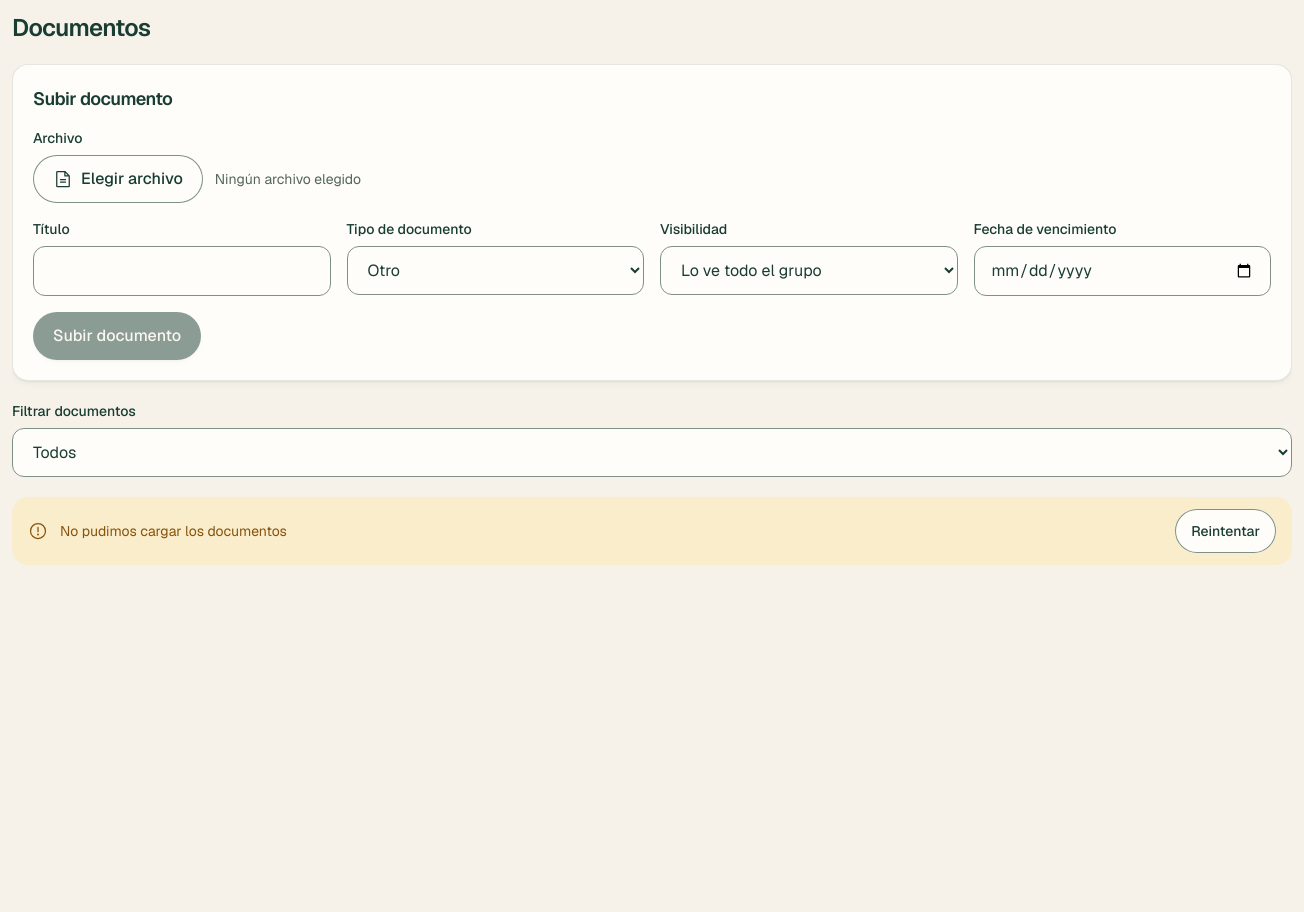
Scenario: shows an inline error with a retry when the list fails, then recovers
The width and height of the screenshot is (1304, 912).
Expected: the message shows "No pudimos cargar los documentos", [60,522,287,540]
Click the button "Reintentar": coordinates (1226, 531) [1175,509,1276,553]
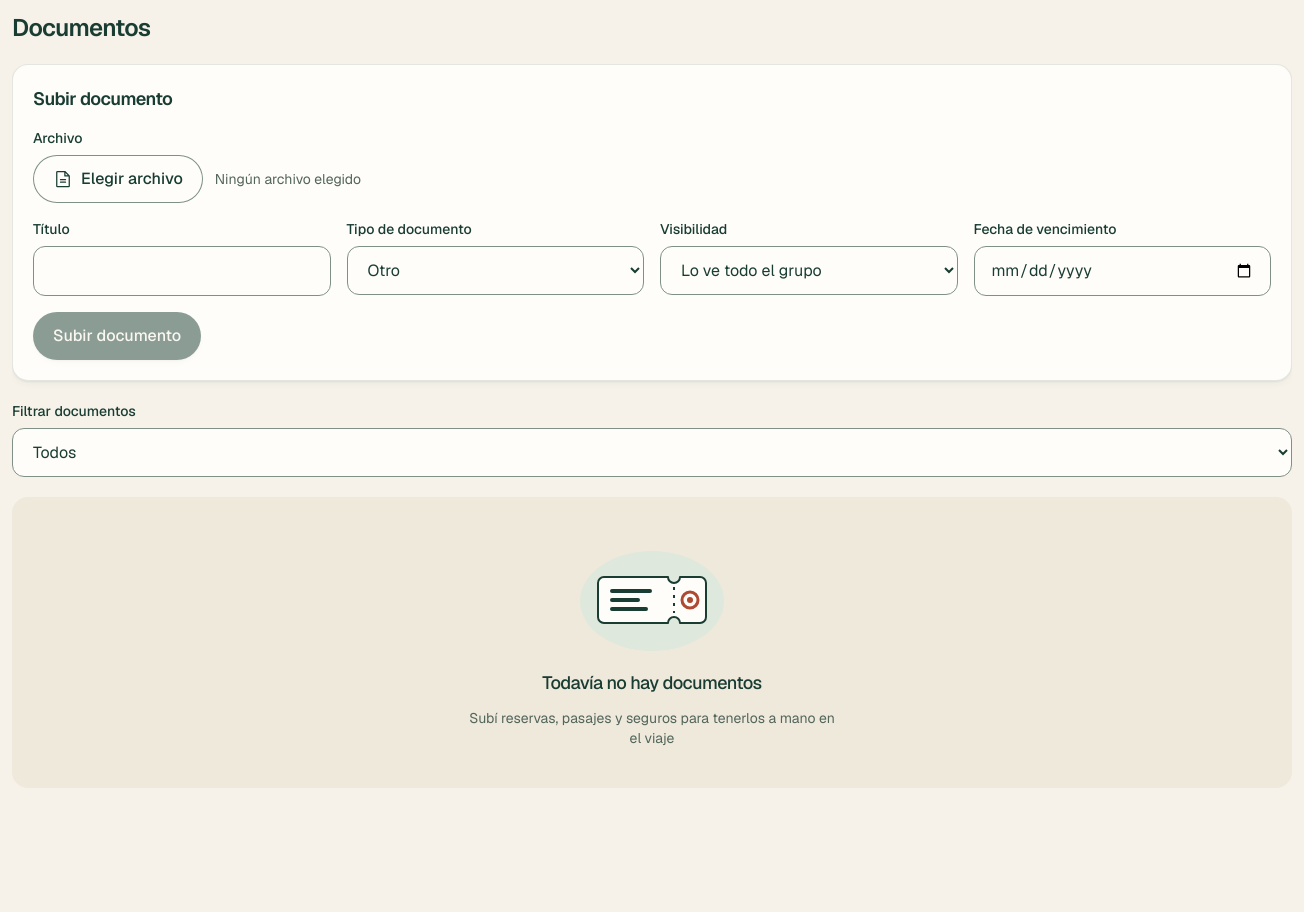
Expected: the text "Todavía no hay documentos" is shown, [542,669,762,696]
Expected: the message "No pudimos cargar los documentos Reintentar" is gone
